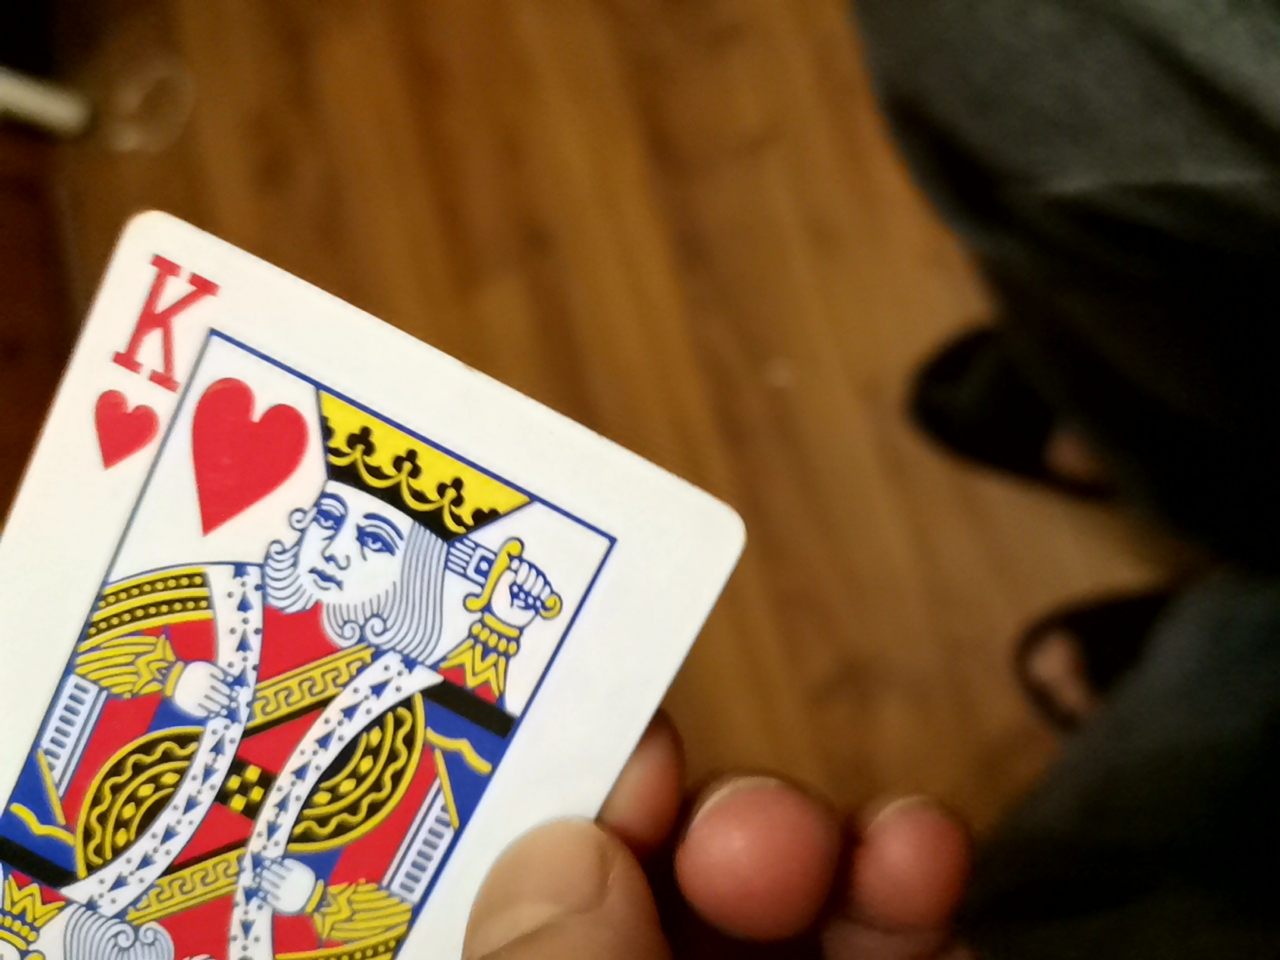hx k: (6, 220, 757, 960)
